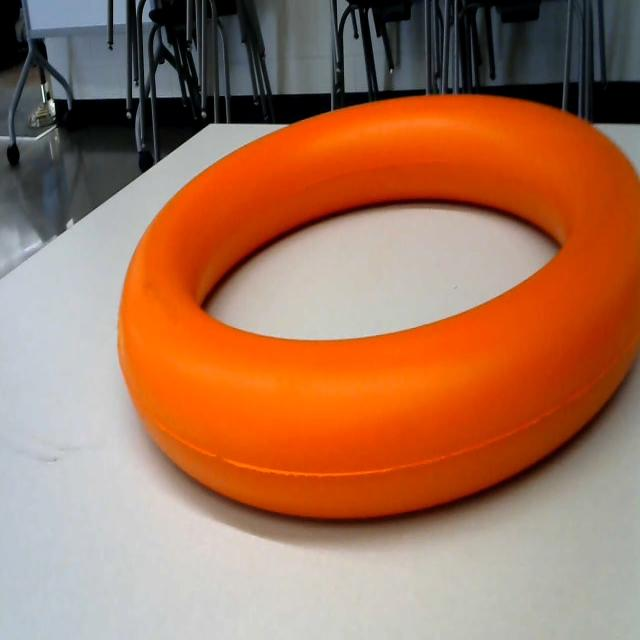note: (109, 73, 640, 554)
